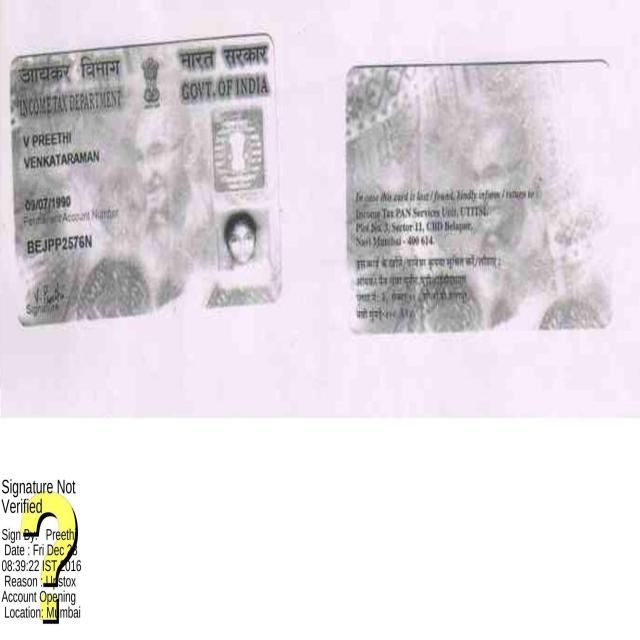pan_card: (9, 36, 281, 324), (347, 61, 611, 330)
